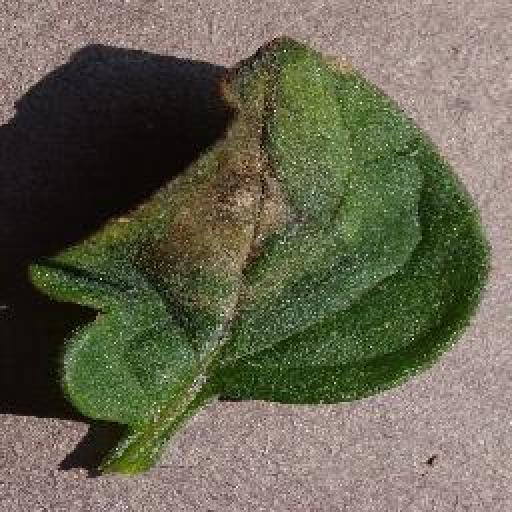Late Blight: (25, 27, 491, 428)
